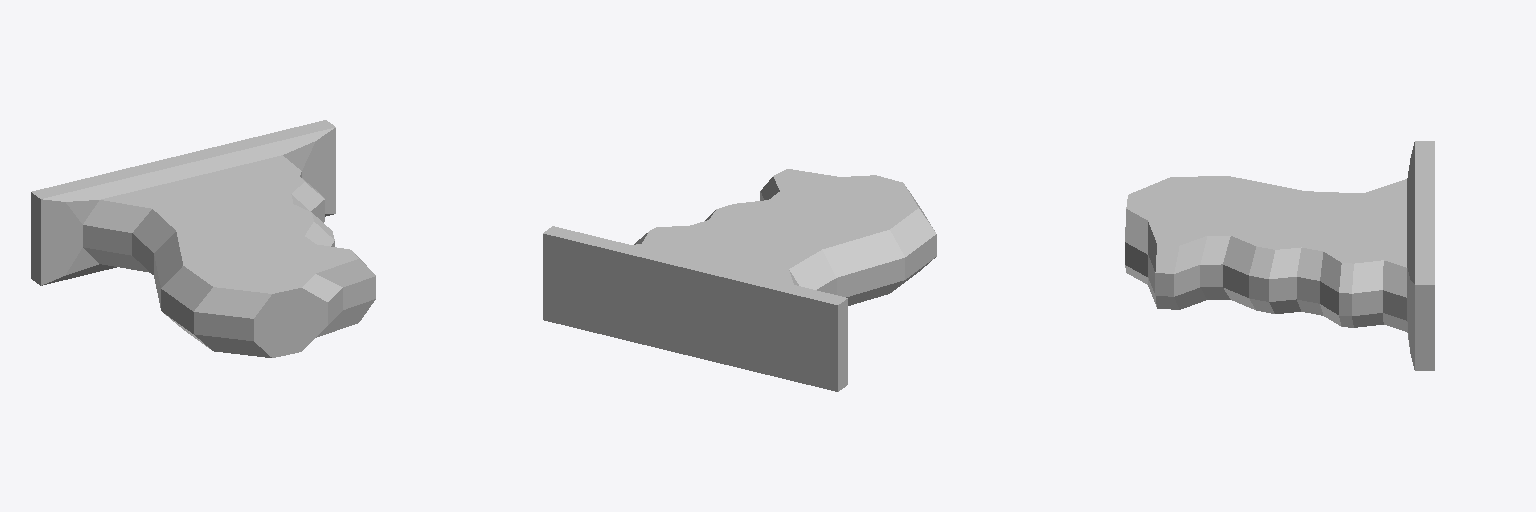
The model's file is ergo_foregrip.obj.
The picture shows the model from 3 angles: view 1: azimuth 30°, elevation 25°; view 2: azimuth 150°, elevation 25°; view 3: azimuth 270°, elevation 25°; orthographic projection.
Visible parts, largest first — view 1: attachmentModel; view 2: attachmentModel; view 3: attachmentModel.
Boxes of the visible parts, box(x1,y1,x2,y2) form: attachmentModel: box(31, 120, 375, 357); attachmentModel: box(543, 169, 936, 391); attachmentModel: box(1125, 141, 1434, 370).
Bounding box in the file's own units: 2.36 × 0.6627 × 2.15.